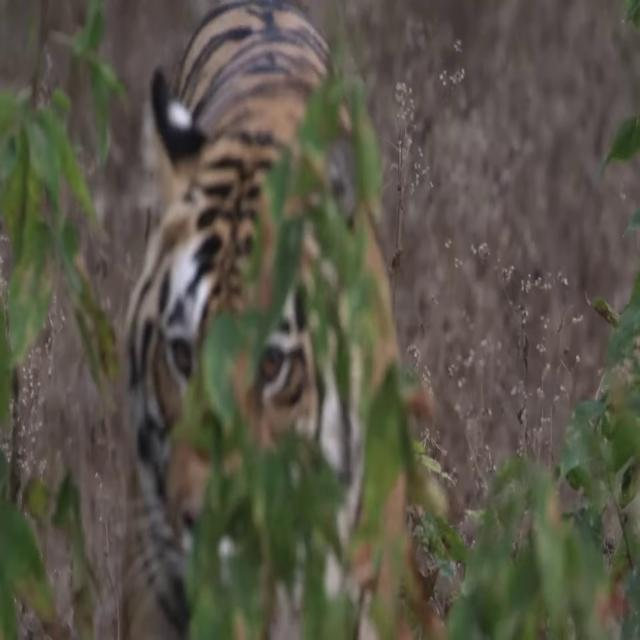tiger: (121, 3, 446, 640)
